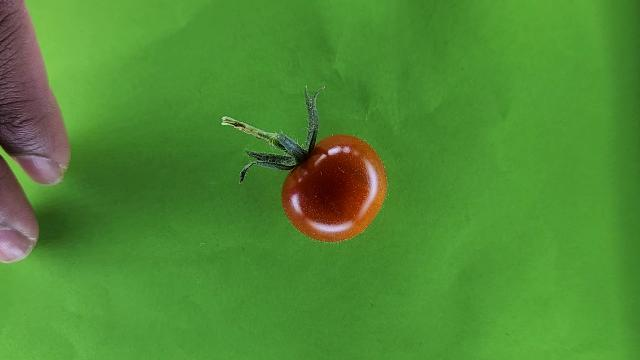Fully Grown: (279, 134, 390, 244)
